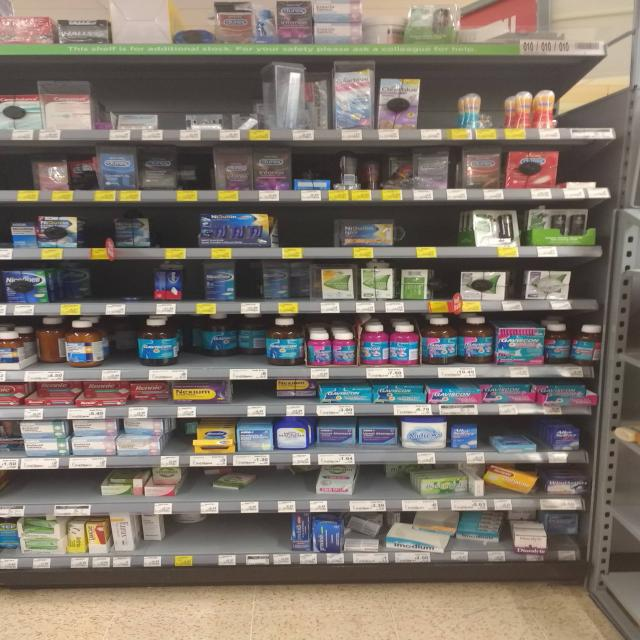void: (462, 7, 596, 42), (558, 69, 608, 124), (422, 70, 461, 128), (278, 214, 330, 248), (565, 146, 609, 185), (99, 264, 148, 298), (407, 212, 463, 240), (176, 2, 211, 43), (154, 211, 198, 242), (161, 75, 185, 129), (484, 75, 507, 128), (432, 265, 460, 298), (232, 379, 272, 400), (0, 156, 25, 188)
